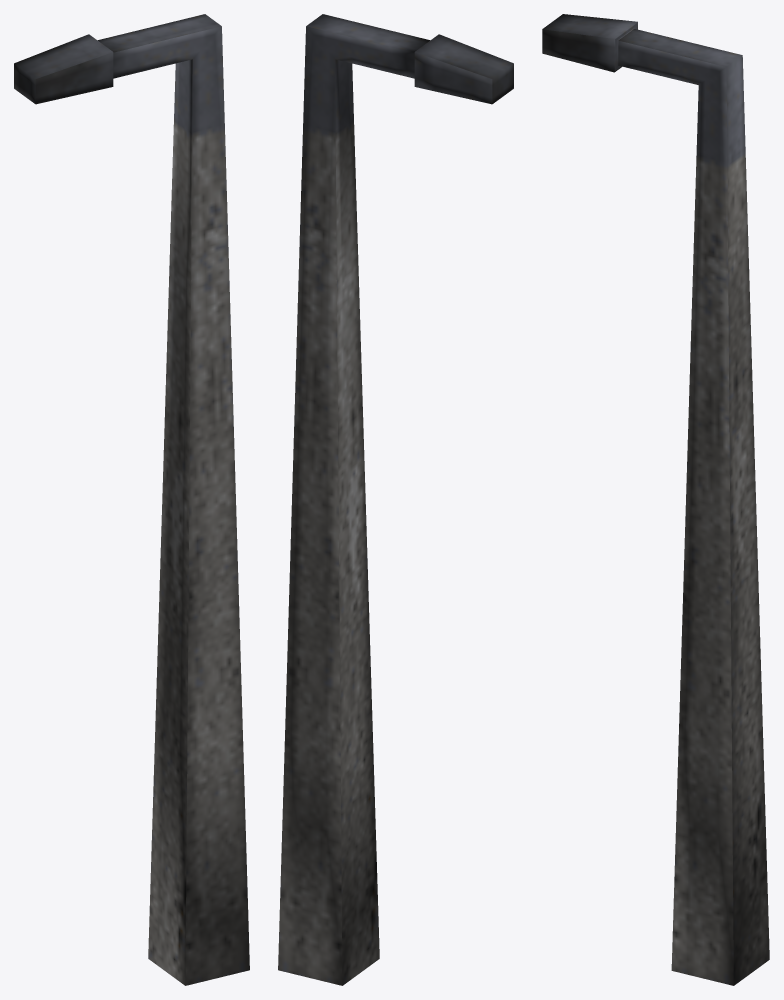
The model's file is streetlamp0.fbx.
3 renders of one model, left to right at view 1: azimuth 30°, elevation 25°; view 2: azimuth 150°, elevation 25°; view 3: azimuth 330°, elevation 25°, orthographic. The views are drawn at different scales.
Visible parts, largest first — view 1: streetlamp0; view 2: streetlamp0; view 3: streetlamp0.
Part boxes in pixels (x1,y1,x2,y2): streetlamp0: (14,14,249,985); streetlamp0: (278,14,513,985); streetlamp0: (542,14,769,985).
Size of the model in its own units: 111 by 34.78 by 487.
Materials: 1 (1 with a texture image).
